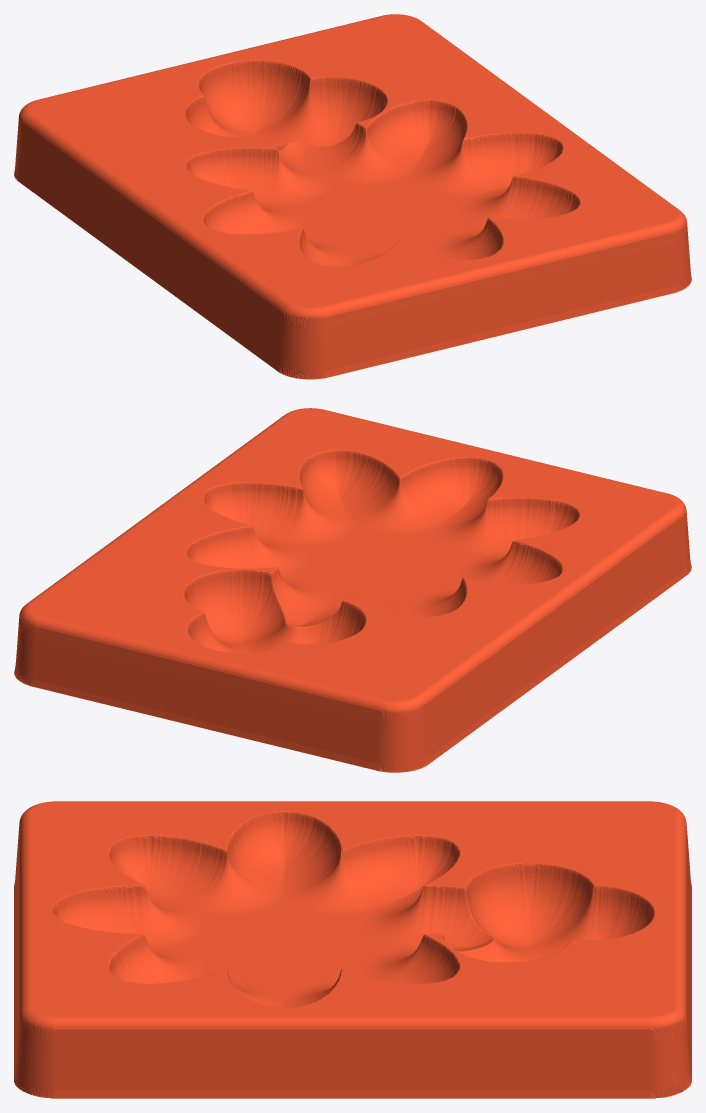
File: mold.glb
3 renders of one model, top to bottom at view 1: azimuth 30°, elevation 25°; view 2: azimuth 150°, elevation 25°; view 3: azimuth 270°, elevation 25°, orthographic. The views are drawn at different scales.
Visible parts, largest first — view 1: geometry_0; view 2: geometry_0; view 3: geometry_0.
Part boxes in pixels (x1=…): geometry_0: x1=14, y1=14, x2=691, y2=379; geometry_0: x1=14, y1=408, x2=691, y2=772; geometry_0: x1=14, y1=801, x2=691, y2=1098.
Bounding box in the file's own units: 0.1143 × 0.0175 × 0.1435.
